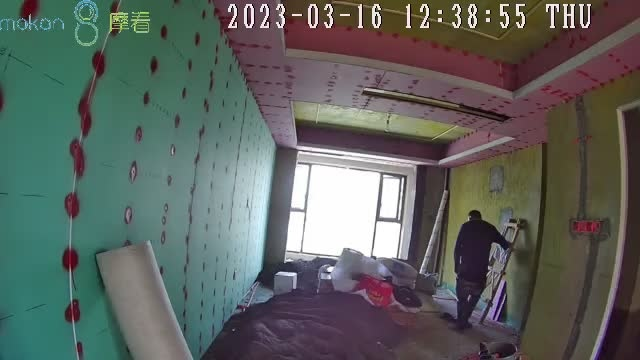people: (454, 210, 512, 331)
window: (286, 158, 404, 260)
